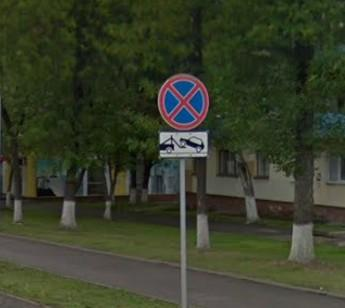No Parking: (157, 74, 213, 133)
